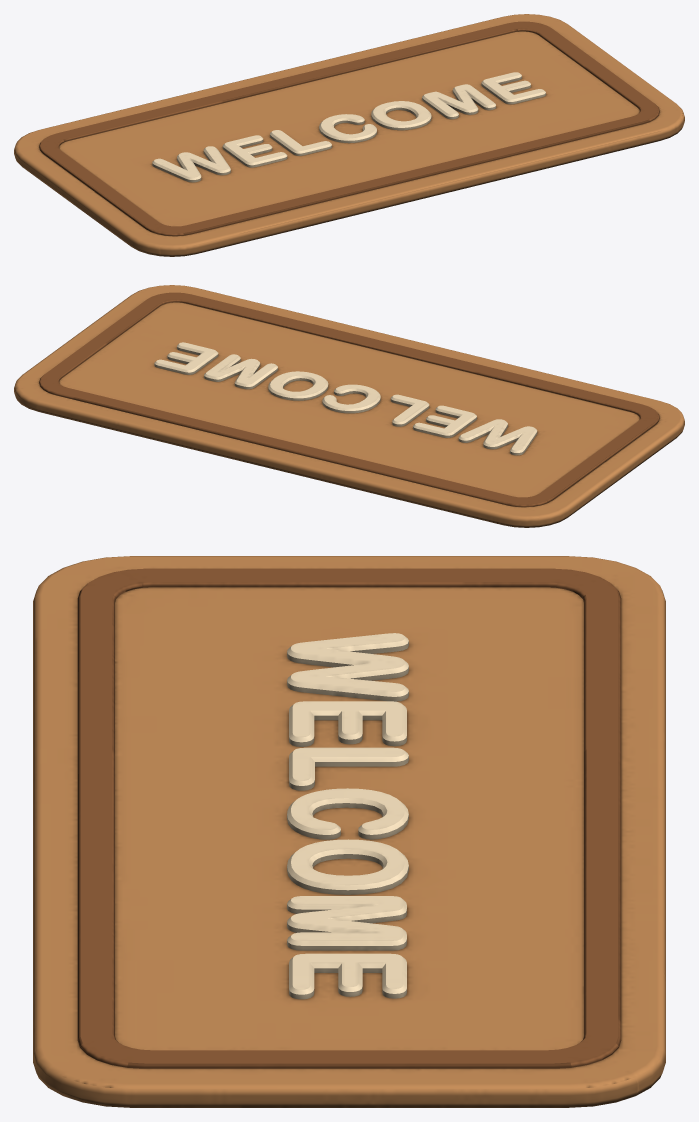
The model's file is doormat.glb.
3 views of the same model, one above another, from view 1: azimuth 30°, elevation 25°; view 2: azimuth 150°, elevation 25°; view 3: azimuth 270°, elevation 25° (orthographic). The views are drawn at different scales.
Parts seen in each view (by area): view 1: doormat; view 2: doormat; view 3: doormat.
Boxes of the visible parts, left/top/right/bottom form: doormat: left=14, top=14, right=684, bottom=256; doormat: left=14, top=285, right=684, bottom=527; doormat: left=33, top=556, right=665, bottom=1107.
Bounding box in the file's own units: 1.7 × 0.047 × 0.85.
3 materials, 3 textured.
